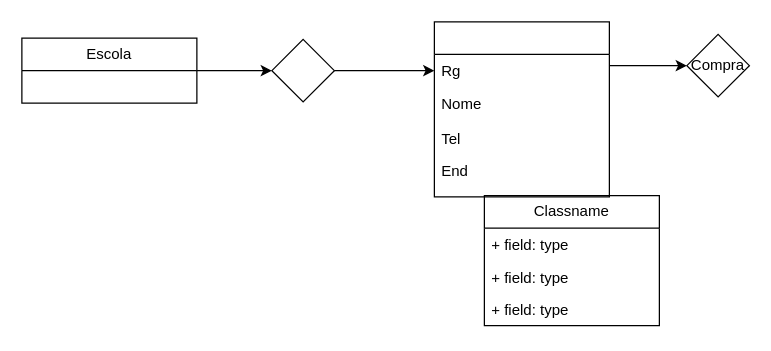
The diagram is 771 pixels wide and 351 high, and some of its shapes have lost their labels. The shapes that lost their labels are listed below. From the top down, each one's box as (x1, y1, x2, y2) in pixels, then its label:
(271, 38, 334, 102): Tem
(433, 21, 609, 197): Cliente
